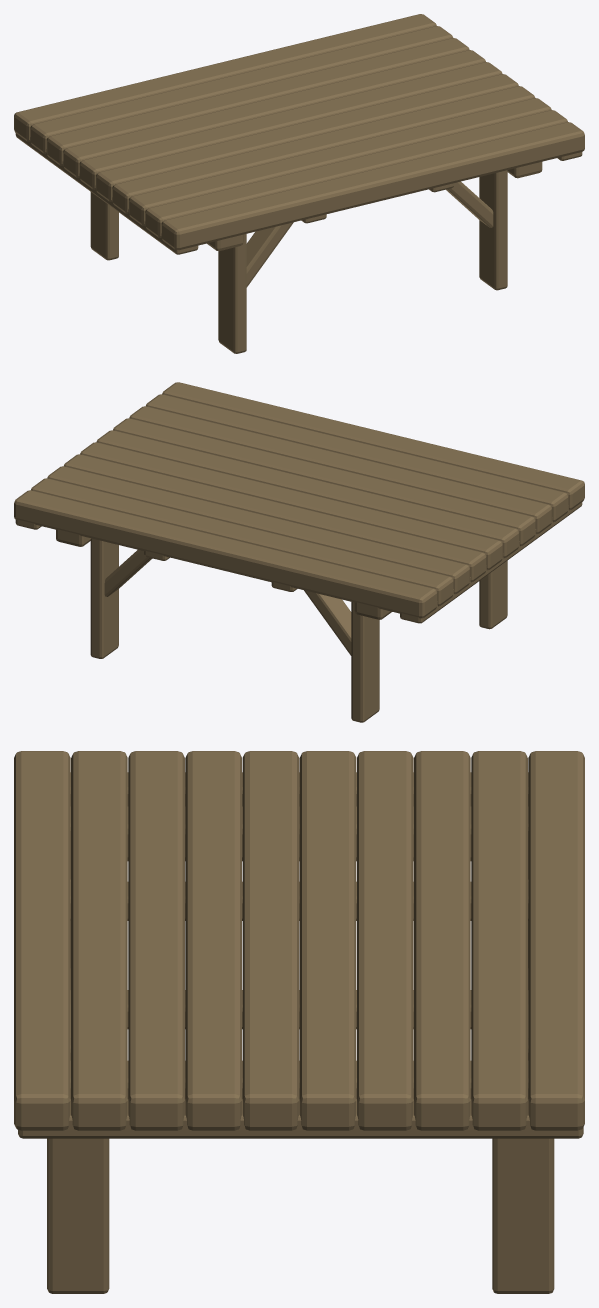
File: tahta.fbx
The picture shows the model from 3 angles, top to bottom: view 1: azimuth 30°, elevation 25°; view 2: azimuth 150°, elevation 25°; view 3: azimuth 270°, elevation 25°; orthographic projection. The views are drawn at different scales.
Parts seen in each view (by area): view 1: Cube.037; view 2: Cube.037; view 3: Cube.037.
Boxes of the visible parts, x1=… form: Cube.037: x1=14, y1=14, x2=584, y2=353; Cube.037: x1=14, y1=382, x2=584, y2=722; Cube.037: x1=14, y1=751, x2=584, y2=1293.
Size of the model in its own units: 798 by 274 by 552.
